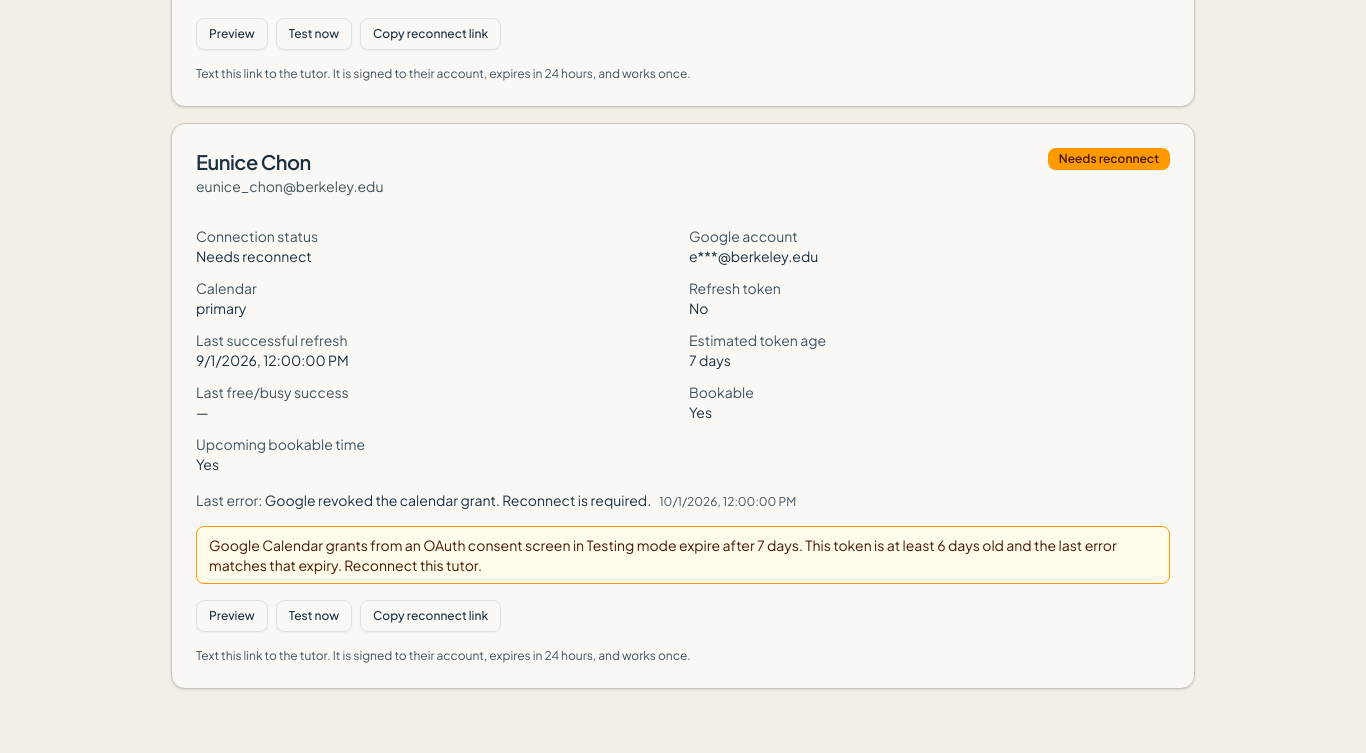
Scenario: Admin connections › shows masked health for each tutor and runs a read-only free/busy test
(page scrolled)
Expected: the text with test id "badge-calendar-connection-eunice-profile" reads "Needs reconnect", [1059,151,1159,166]
Expected: the text "e***@berkeley.edu" is shown, [689,247,818,265]
Click the button with test id "test-calendar-connection-eunice-profile" at (314, 616), box [276,600,352,632]
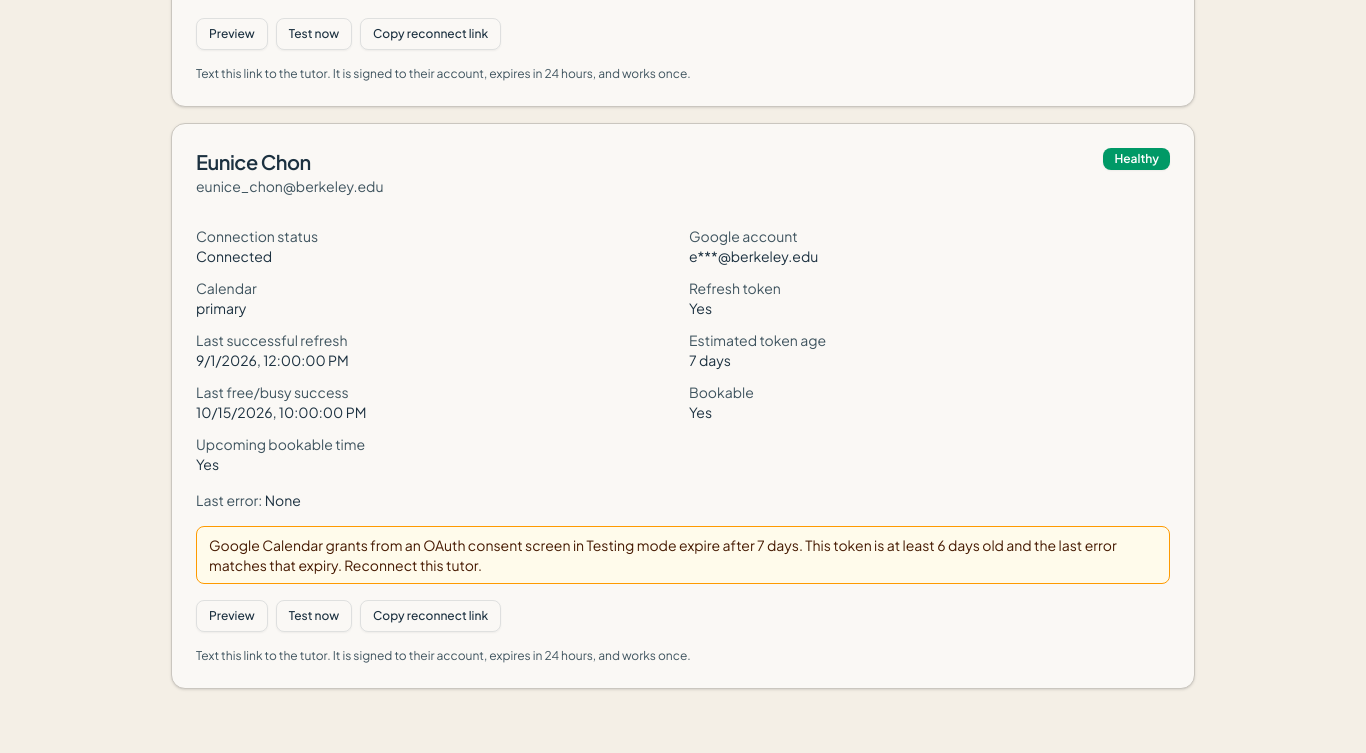
Now the text with test id "badge-calendar-connection-eunice-profile" reads "Healthy", box [1114,151,1159,166]
